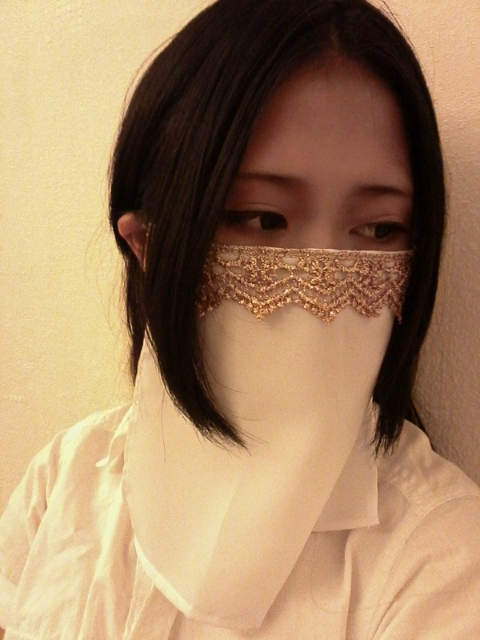face_mask: (194, 91, 410, 415)
